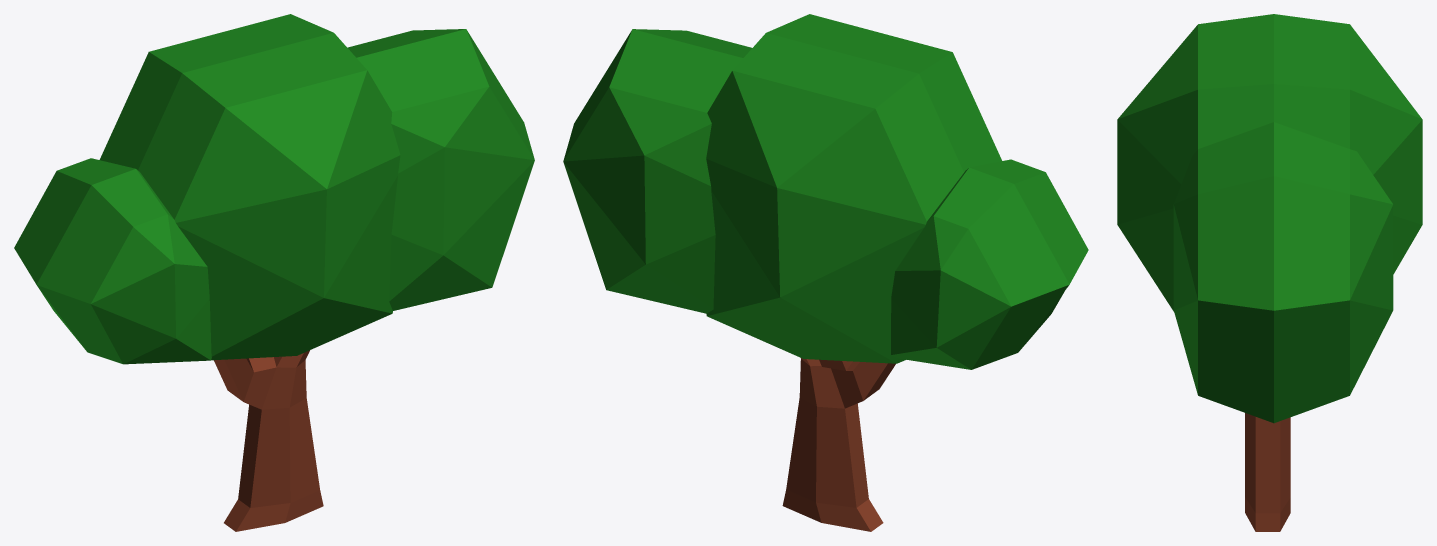
File: tree.fbx
3 renders of one model, left to right at view 1: azimuth 30°, elevation 25°; view 2: azimuth 150°, elevation 25°; view 3: azimuth 270°, elevation 25°, orthographic.
Parts seen in each view (by area): view 1: Krona, Stam; view 2: Krona, Stam; view 3: Krona, Stam.
Boxes of the visible parts, x1,y1,x2,y2 form: Krona: (14,14,534,364); Stam: (214,350,323,531); Krona: (563,14,1088,369); Stam: (782,358,895,531); Krona: (1117,14,1422,423); Stam: (1245,413,1290,531).
Bounding box in the file's own units: 397 × 361 × 216.
